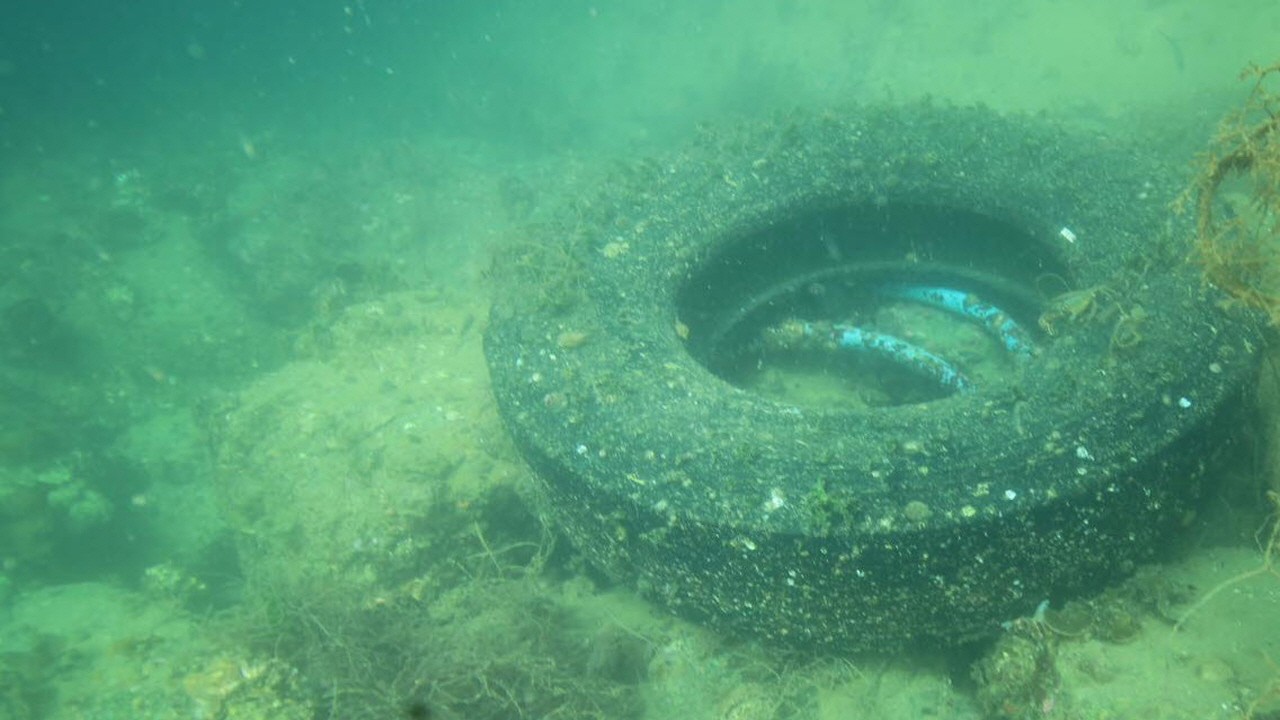tire: (481, 98, 1266, 649)
